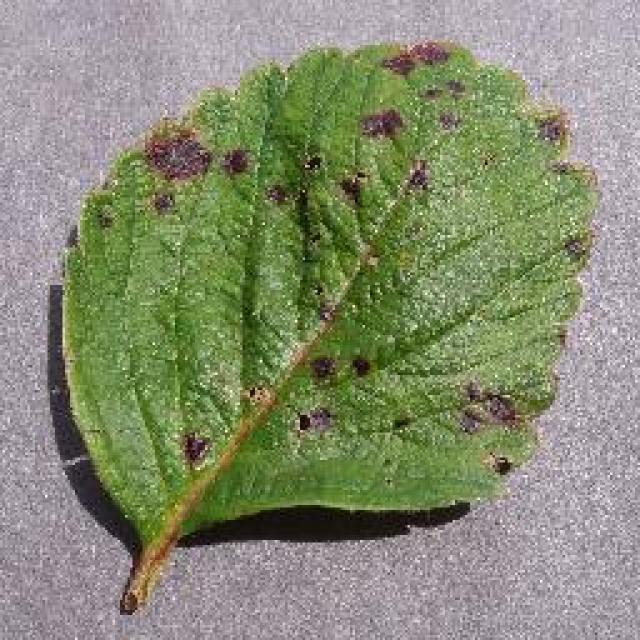Strawberry leaf scorch: (162, 130, 495, 258)
